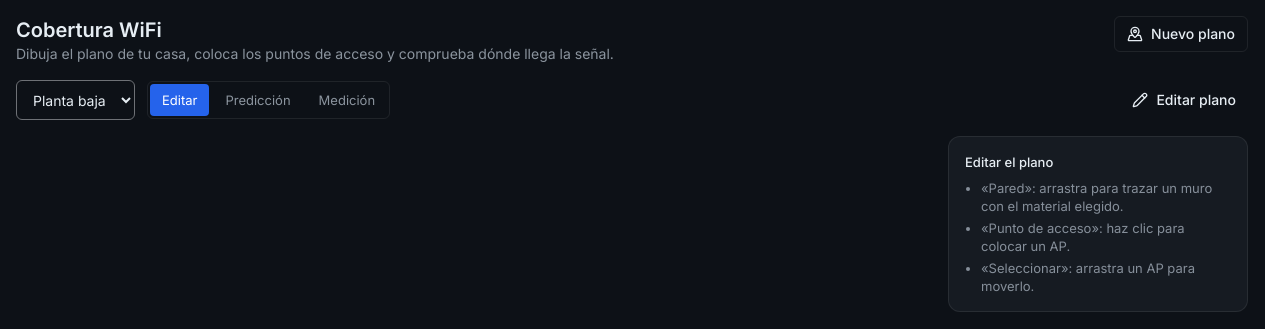
it: CoveragePage › la vista de Medición dice que el RSSI lo mide el punto de acceso, no el móvil
The image size is (1265, 329).
Step 1. Click the button "Medición" → [347, 100], box x1=307 y1=84 x2=387 y2=116
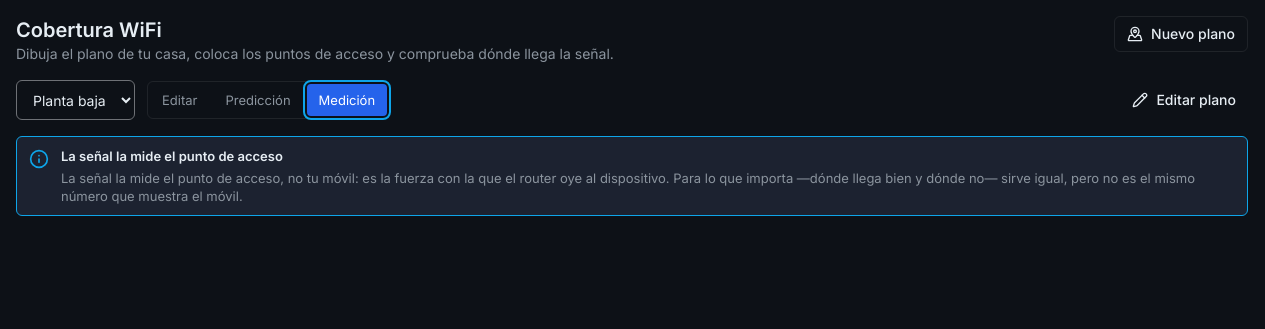
Now the text "La señal la mide el punto de acceso" is shown, box x1=61 y1=148 x2=283 y2=164
